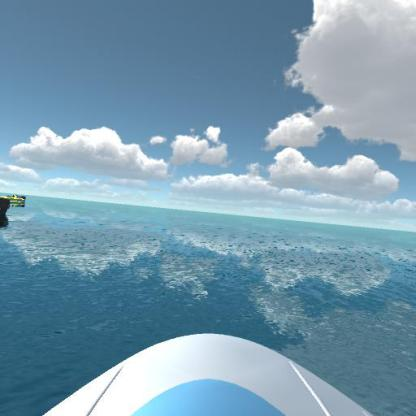usv2: (1, 190, 28, 206)
